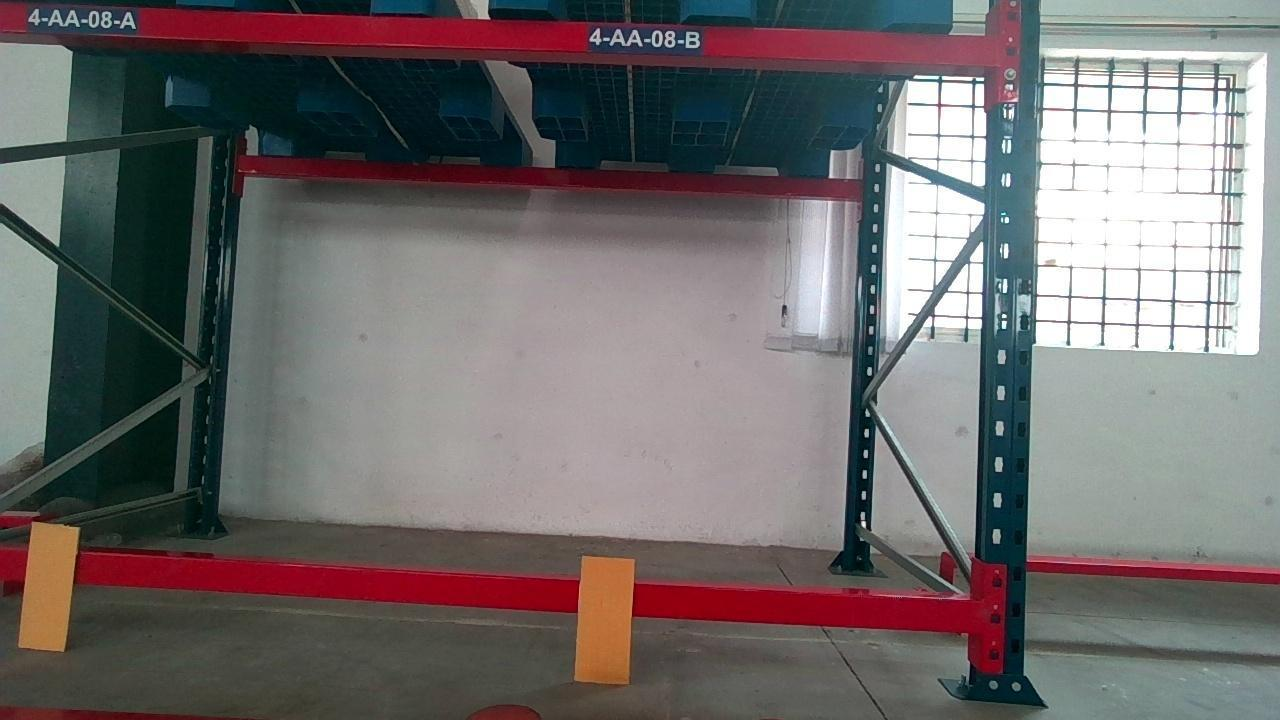h_rack: (0, 547, 973, 631), (0, 1, 1008, 69)
orange_strip: (15, 522, 78, 650), (574, 555, 633, 683)
